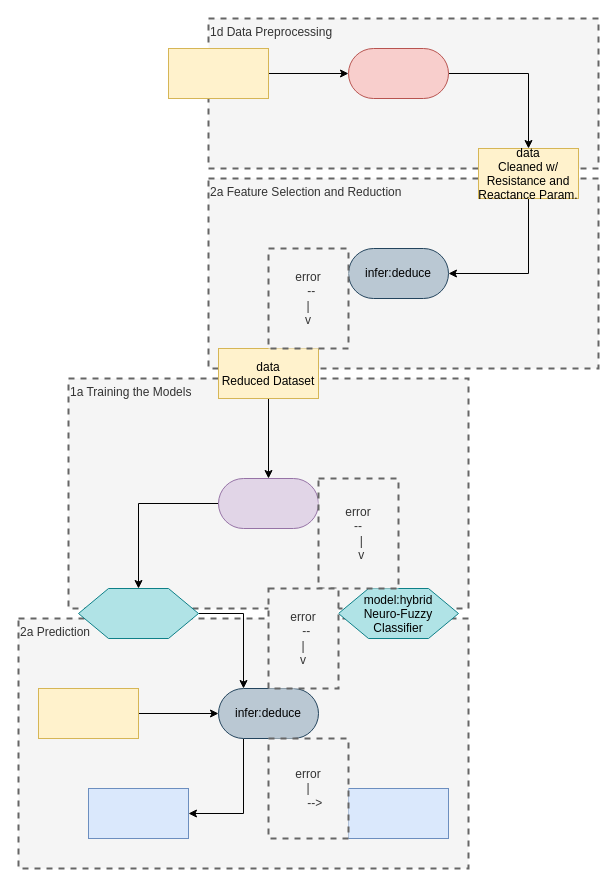
Image size: 616x886. Some labels were removed from this diagram. The shapes that lost their labels are listed below. From the top down, each one's centre as x and y in pixels, then its label:
At pixel 218 73: "data Raw Patient Data".
At pixel 398 73: "transform".
At pixel 268 503: "generate:train".
At pixel 138 613: "model:statistic ML Model".
At pixel 88 713: "data Patient Data".
At pixel 138 813: "symbol Diagnosis".
At pixel 398 813: "symbol Explanation".
